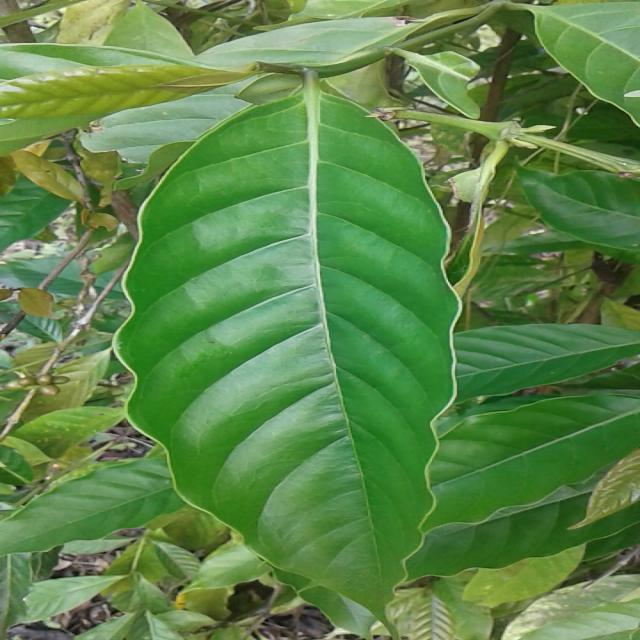Sanas: (114, 70, 524, 618)
